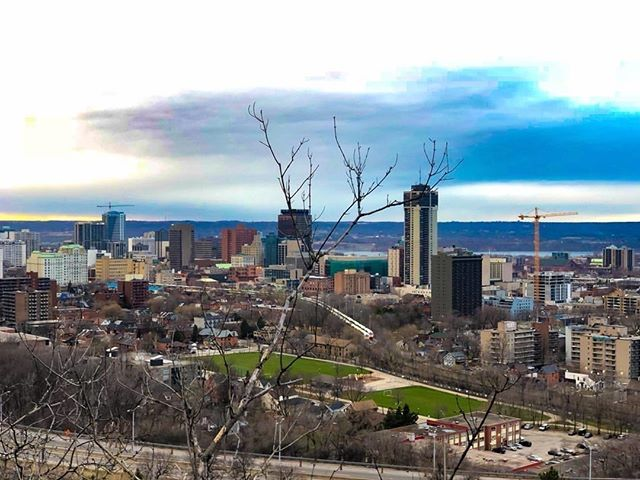building: (565, 322, 640, 396), (424, 252, 490, 330), (428, 244, 483, 335), (399, 183, 443, 282), (28, 245, 89, 296), (313, 254, 388, 292), (483, 322, 540, 372), (274, 206, 312, 279), (1, 274, 55, 325), (215, 221, 262, 270), (162, 217, 203, 271), (1, 225, 37, 273), (100, 209, 127, 260), (69, 218, 105, 253)
crane: (517, 200, 580, 318)
sky: (13, 1, 640, 218)
tree: (189, 144, 434, 473)
